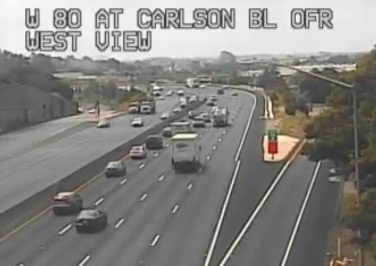car: (76, 209, 106, 231), (52, 192, 82, 212), (105, 161, 124, 176), (146, 136, 162, 150), (129, 146, 144, 158)
small-truck: (171, 133, 199, 171)
